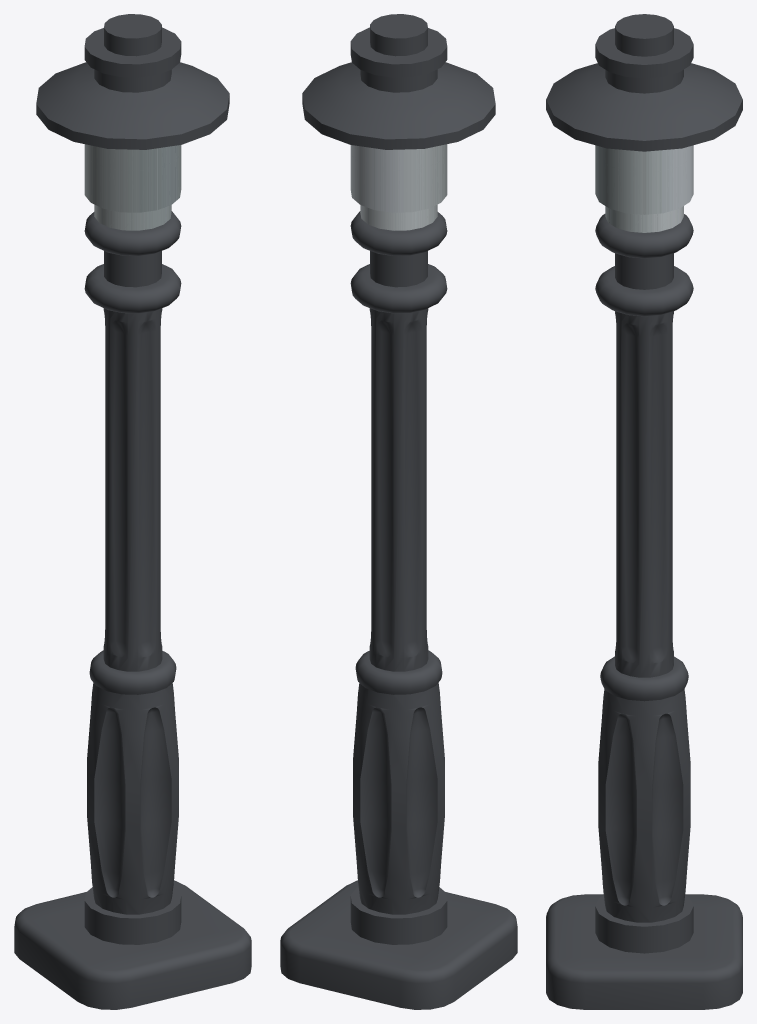
File: Luminaria.obj
3 views of the same model, side by side, from view 1: azimuth 30°, elevation 25°; view 2: azimuth 150°, elevation 25°; view 3: azimuth 270°, elevation 25° (orthographic).
Parts seen in each view (by area): view 1: lamp_base, 4740, 3062, 4073; view 2: lamp_base, 4740, 3062, 4073; view 3: lamp_base, 4740, 3062, 4073.
Boxes of the visible parts, box(x1,y1,x2,y2) form: lamp_base: box(14, 211, 251, 1009); 4740: box(36, 62, 229, 149); 3062: box(84, 144, 181, 230); 4073: box(84, 14, 181, 92); lamp_base: box(280, 211, 517, 1009); 4740: box(302, 62, 495, 149); 3062: box(350, 144, 447, 230); 4073: box(350, 14, 447, 92); lamp_base: box(546, 214, 742, 1009); 4740: box(546, 63, 742, 151); 3062: box(595, 145, 693, 232); 4073: box(595, 14, 693, 93).
Bounding box in the file's own units: 16 × 84.52 × 16.
Materials: 2 (2 with a texture image).
